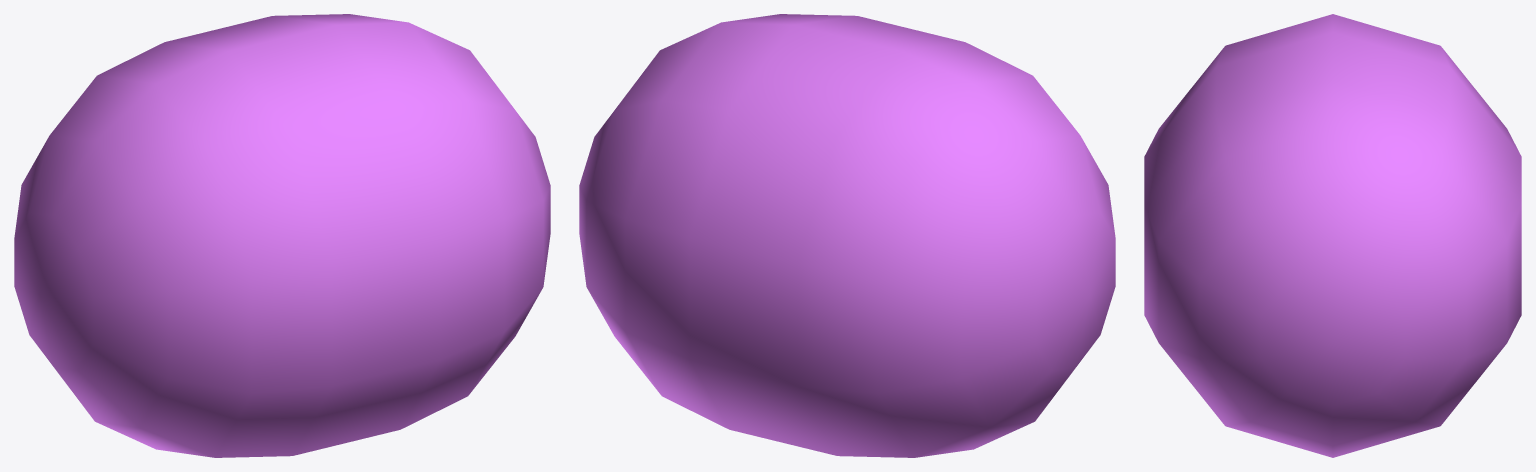
Rendered from convobot_body.fbx.
The picture shows the model from 3 angles, left to right: view 1: azimuth 30°, elevation 25°; view 2: azimuth 150°, elevation 25°; view 3: azimuth 270°, elevation 25°; orthographic projection. The views are drawn at different scales.
Parts seen in each view (by area): view 1: Body; view 2: Body; view 3: Body.
Boxes of the visible parts, bbox=[...] form: Body: bbox=[14, 14, 550, 457]; Body: bbox=[579, 14, 1115, 457]; Body: bbox=[1144, 14, 1521, 457].
Bounding box in the file's own units: 900 × 700 × 666.
